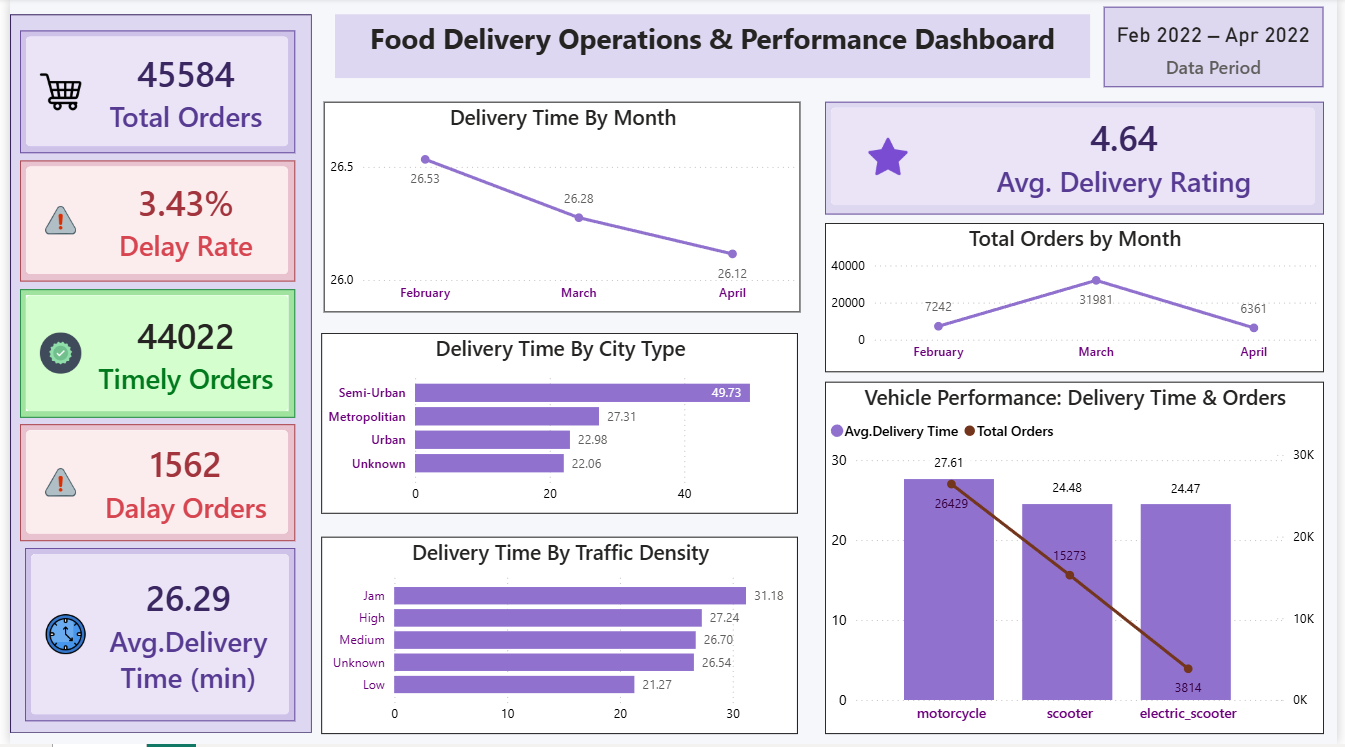

What the dashboard file says about the page in this screenshot:
{"tool":"powerbi","page":{"name":"Page 1","canvas":[1280,720],"ordinal":0},"visuals":[{"type":"shape","box":[0,15.9,291.4,694],"z":500},{"type":"cardVisual","fields":{"Data":["measures (2).Total Orders"]},"box":[10.1,31.7,265.5,118.3],"z":1000},{"type":"cardVisual","fields":{"Data":["measures (2).Delay Rate"]},"box":[10.1,156.9,265.5,116.9],"z":2000},{"type":"cardVisual","fields":{"Data":["measures (2).Average Delivery Rating"]},"box":[786.6,100.1,481.4,108.6],"z":3000},{"type":"cardVisual","fields":{"Data":["measures (2).Average Delivery Time"]},"box":[14.4,530.9,261.1,167.4],"z":4000},{"type":"cardVisual","fields":{"Data":["measures (2).Dalayed Orders"]},"box":[10.1,411.5,265.5,112.5],"z":5000},{"type":"cardVisual","fields":{"Data":["measures (2).Timely Orders"]},"box":[10.1,280.6,265.5,124.1],"z":6000},{"type":"barChart","title":"Delivery Time By City Type","fields":{"Category":["food_delivery_app zomato.city"],"Y":["Avg(food_delivery_app zomato.time_taken_min)"]},"box":[300.1,323.9,460.2,174.6],"z":7000},{"type":"barChart","title":"Delivery Time By Traffic Density","fields":{"Category":["food_delivery_app zomato.road_traffic_density"],"Y":["Avg(food_delivery_app zomato.time_taken_min)"]},"box":[300.1,519.4,460.2,190.4],"z":8000},{"type":"lineChart","title":"Delivery Time By Month","fields":{"Category":["food_delivery_app zomato.order_date.Variation.Date Hierarchy.Month"],"Y":["Avg(food_delivery_app zomato.time_taken_min)"]},"box":[303,99.6,460.2,203.4],"z":9000},{"type":"lineChart","fields":{"Category":["food_delivery_app zomato.order_date.Variation.Date Hierarchy.Month"],"Y":["measures (2).Total Orders"]},"box":[786.5,217.5,481.2,144],"z":10000},{"type":"lineClusteredColumnComboChart","title":"Vehicle Performance: Delivery Time & Orders","fields":{"Category":["food_delivery_app zomato.type_of_vehicle"],"Y":["Avg(food_delivery_app zomato.time_taken_min)"],"Y2":["measures (2).Total Orders"]},"box":[786.6,370.4,481.4,340.2],"z":11000},{"type":"textbox","box":[313.7,15.7,728.7,61.5],"z":12000},{"type":"card","fields":{"Values":["measures (2).Data Period"]},"box":[1055.6,8.4,212.3,77.2],"z":12001}]}

Visuals, with their boxes in screenshot pixels (x1, y1, x2, y2), scaled from the page's 1280x720 canvas onto the 1345x747 screenshot:
shape: BBox(0, 16, 306, 737)
cardVisual - measures (2).Total Orders: BBox(11, 33, 290, 156)
cardVisual - measures (2).Delay Rate: BBox(11, 163, 290, 284)
cardVisual - measures (2).Average Delivery Rating: BBox(827, 104, 1332, 217)
cardVisual - measures (2).Average Delivery Time: BBox(15, 551, 289, 724)
cardVisual - measures (2).Dalayed Orders: BBox(11, 427, 290, 544)
cardVisual - measures (2).Timely Orders: BBox(11, 291, 290, 420)
"Delivery Time By City Type" barChart: BBox(315, 336, 799, 517)
"Delivery Time By Traffic Density" barChart: BBox(315, 539, 799, 736)
"Delivery Time By Month" lineChart: BBox(318, 103, 802, 314)
lineChart - food_delivery_app zomato.order_date.Variation.Date Hierarchy.Month x measures (2).Total Orders: BBox(826, 226, 1332, 375)
"Vehicle Performance: Delivery Time & Orders" lineClusteredColumnComboChart: BBox(827, 384, 1332, 737)
textbox: BBox(330, 16, 1095, 80)
card - measures (2).Data Period: BBox(1109, 9, 1332, 89)
